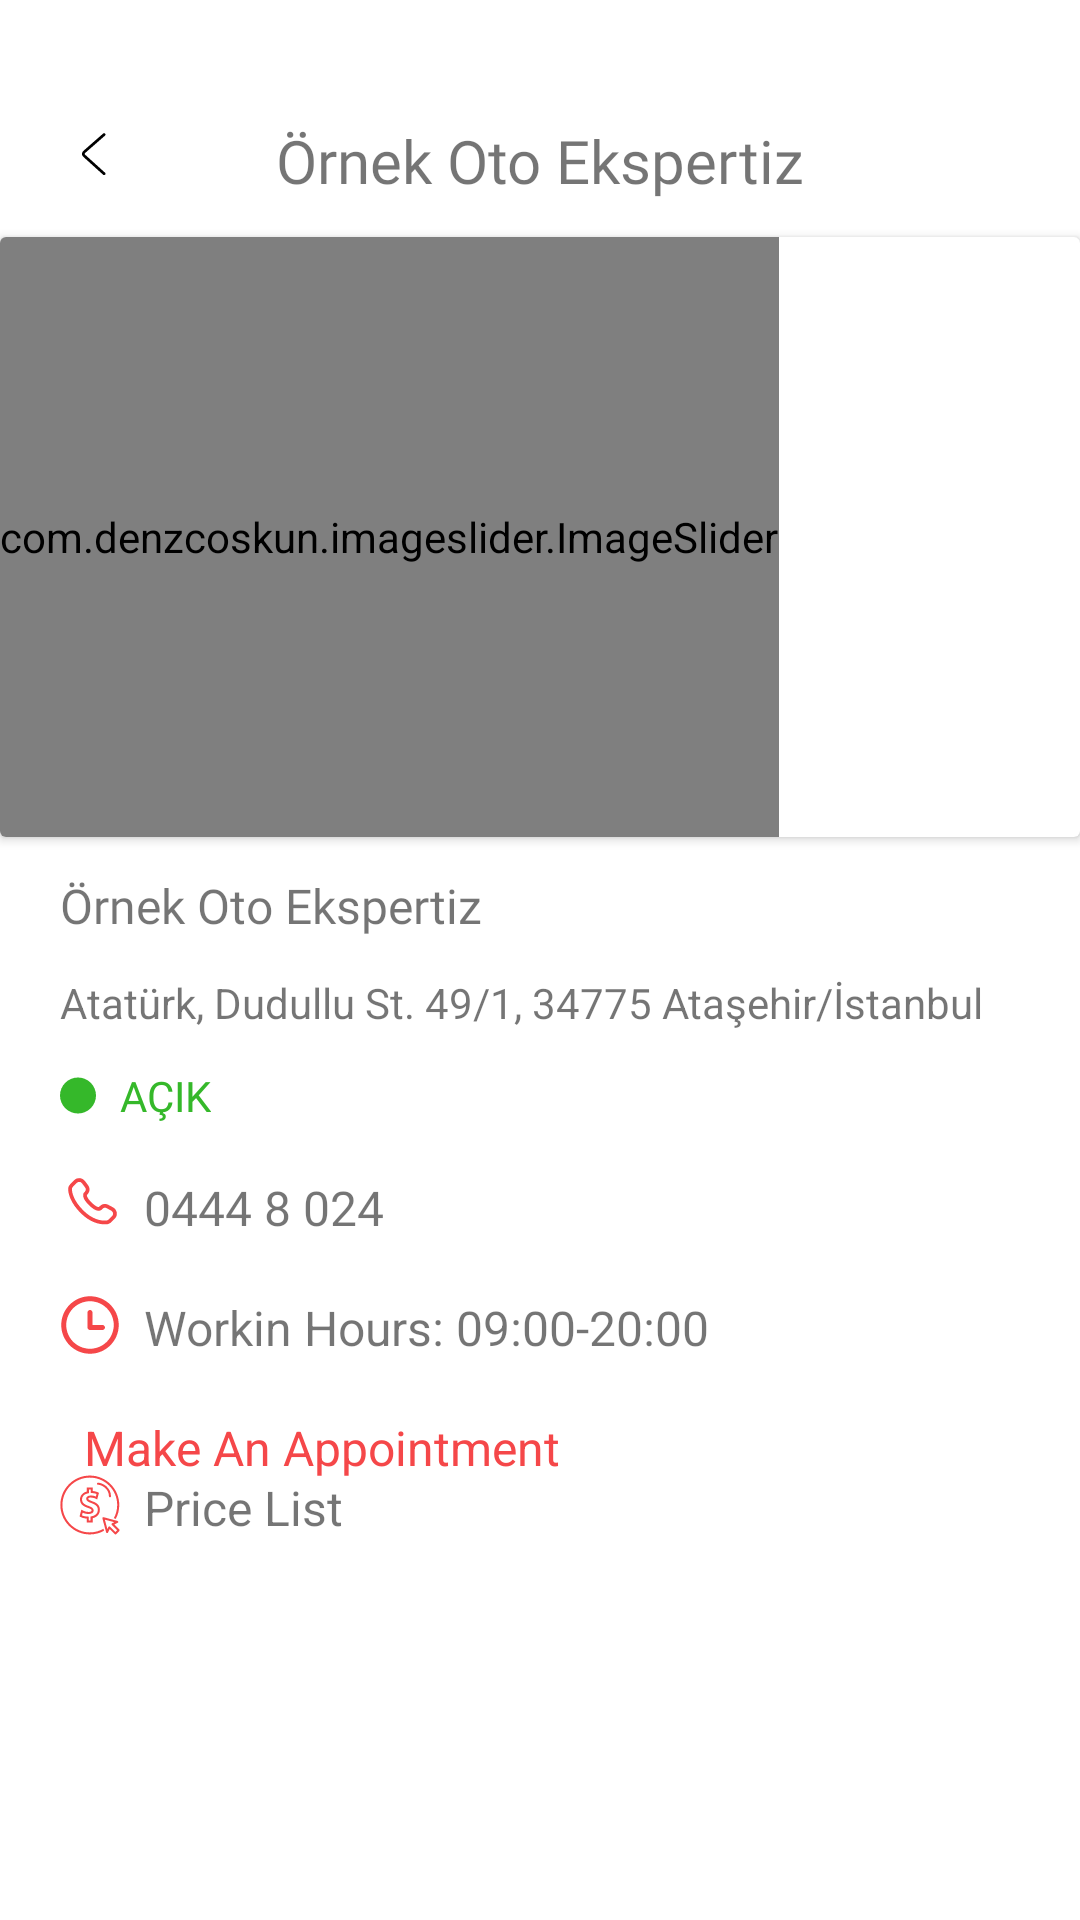

Named icons in this screenshot (1080 x 1920) and their bounding boxes, [x1=x1, y1=y1, x2=x2, y2=y2]:
back: [x1=82, y1=133, x2=106, y2=175]
clock: [x1=61, y1=1296, x2=119, y2=1354]
phone: [x1=68, y1=1178, x2=117, y2=1225]
